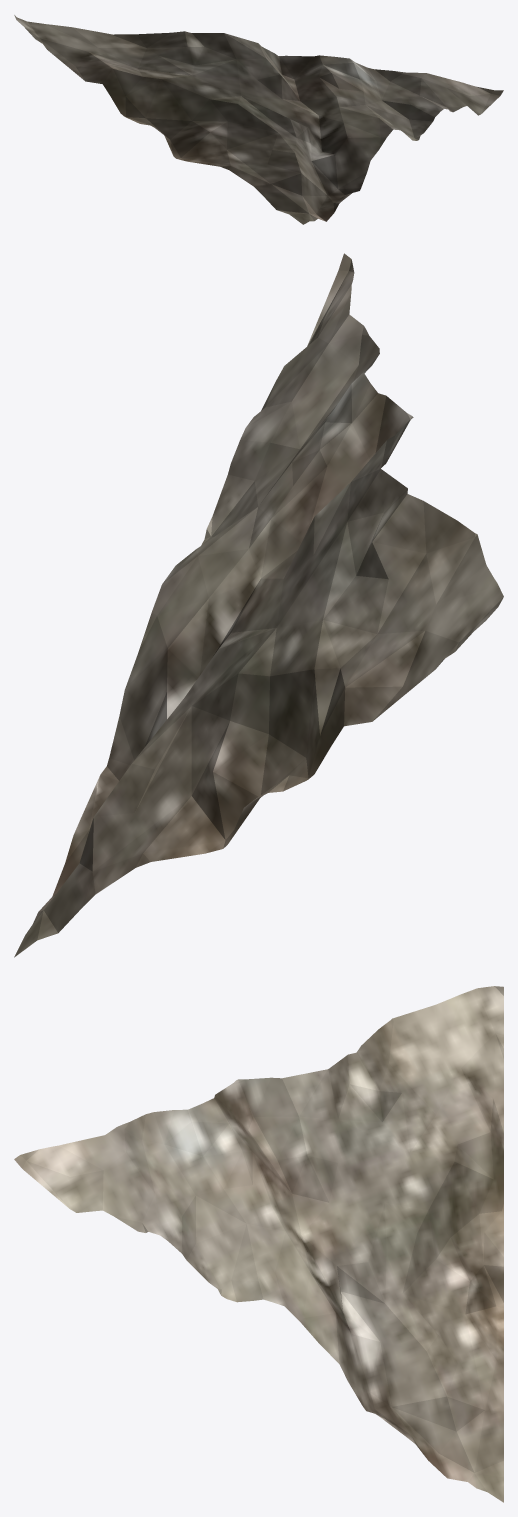
3 renders of one model, top to bottom at view 1: azimuth 30°, elevation 25°; view 2: azimuth 150°, elevation 25°; view 3: azimuth 270°, elevation 25°, orthographic. The views are drawn at different scales.
Size of the model in its own units: 1.02 by 0.947 by 1.22.
1 material, 1 textured.
